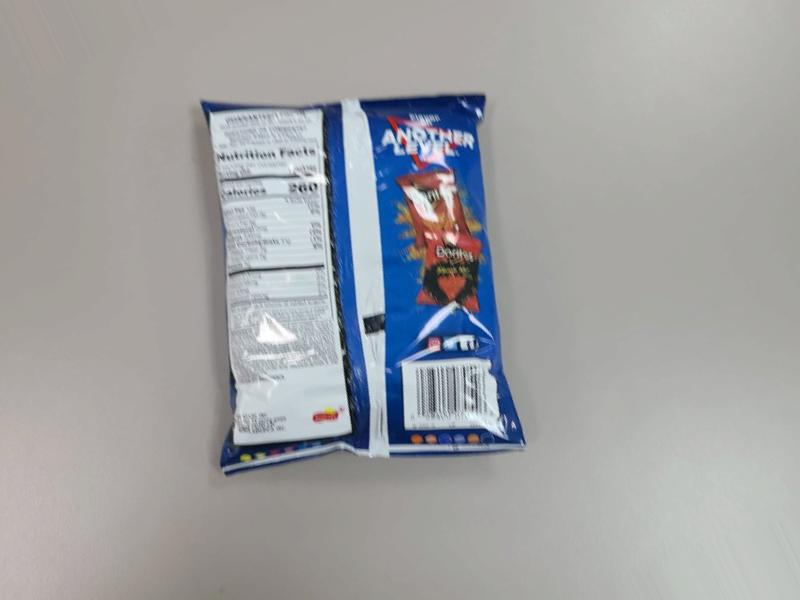doritos: (198, 73, 546, 486)
